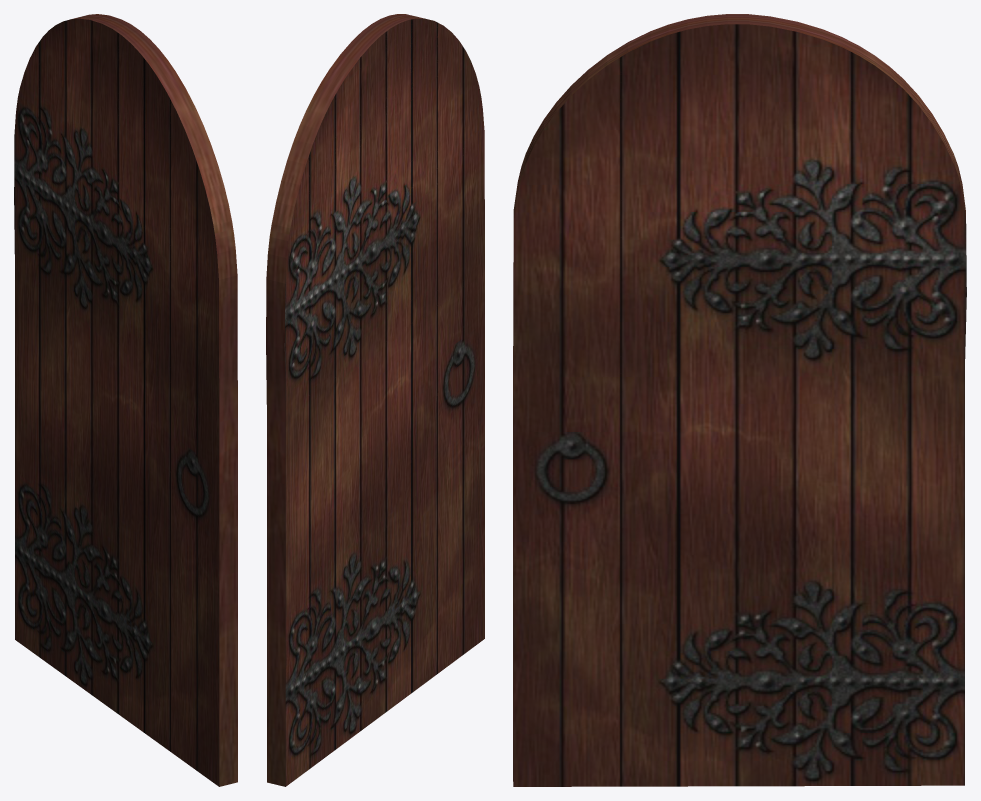
Rendered from puerta.obj.
3 views of the same model, side by side, from view 1: azimuth 30°, elevation 25°; view 2: azimuth 150°, elevation 25°; view 3: azimuth 270°, elevation 25° (orthographic). The views are drawn at different scales.
Visible parts, largest first — view 1: Extrude_NURBS_1; view 2: Extrude_NURBS_1; view 3: Extrude_NURBS_1.
Part boxes in pixels (left/top/right/bottom): Extrude_NURBS_1: left=14, top=14, right=237, bottom=786; Extrude_NURBS_1: left=266, top=14, right=484, bottom=786; Extrude_NURBS_1: left=513, top=14, right=966, bottom=786.
Bounding box in the file's own units: 0.3586 × 11.06 × 5.97.
